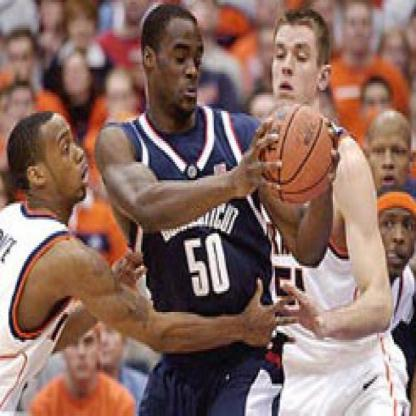basketball: (255, 105, 337, 205)
